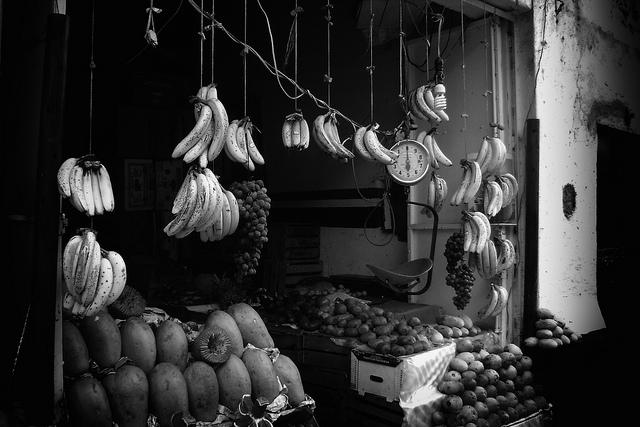banana: (188, 96, 228, 162), (171, 102, 213, 159), (167, 170, 198, 236), (84, 256, 114, 316), (183, 112, 215, 164), (100, 247, 126, 307), (184, 170, 210, 229), (63, 234, 86, 296), (57, 156, 89, 200), (74, 232, 96, 294), (82, 241, 101, 307), (194, 176, 217, 227), (364, 124, 392, 164), (324, 114, 349, 158), (314, 110, 338, 154), (219, 183, 239, 235), (225, 119, 248, 164), (69, 163, 89, 214), (330, 118, 354, 160), (420, 178, 448, 214), (236, 120, 255, 172), (96, 164, 115, 212), (462, 159, 482, 204), (414, 84, 438, 120), (424, 86, 448, 122), (354, 122, 376, 160), (468, 214, 488, 255), (486, 138, 506, 178), (90, 161, 104, 215), (482, 136, 502, 173), (468, 212, 491, 243), (374, 132, 400, 159), (456, 164, 472, 207), (432, 132, 452, 166), (450, 166, 467, 206), (409, 91, 430, 122), (246, 129, 264, 165), (480, 286, 498, 320), (495, 174, 513, 208), (83, 167, 95, 218), (490, 284, 508, 317), (495, 239, 510, 275), (424, 132, 438, 170), (499, 173, 518, 200), (486, 182, 501, 216), (488, 181, 503, 214), (480, 139, 493, 176), (466, 215, 478, 253), (222, 192, 232, 237), (500, 238, 514, 270), (426, 174, 436, 218), (434, 173, 444, 213), (475, 138, 488, 168), (282, 120, 293, 154), (174, 176, 186, 206), (415, 128, 436, 145), (300, 117, 310, 150), (292, 112, 300, 150), (463, 219, 472, 252), (213, 210, 223, 239), (484, 188, 491, 220), (175, 228, 195, 239), (497, 240, 503, 266), (297, 146, 302, 150)
